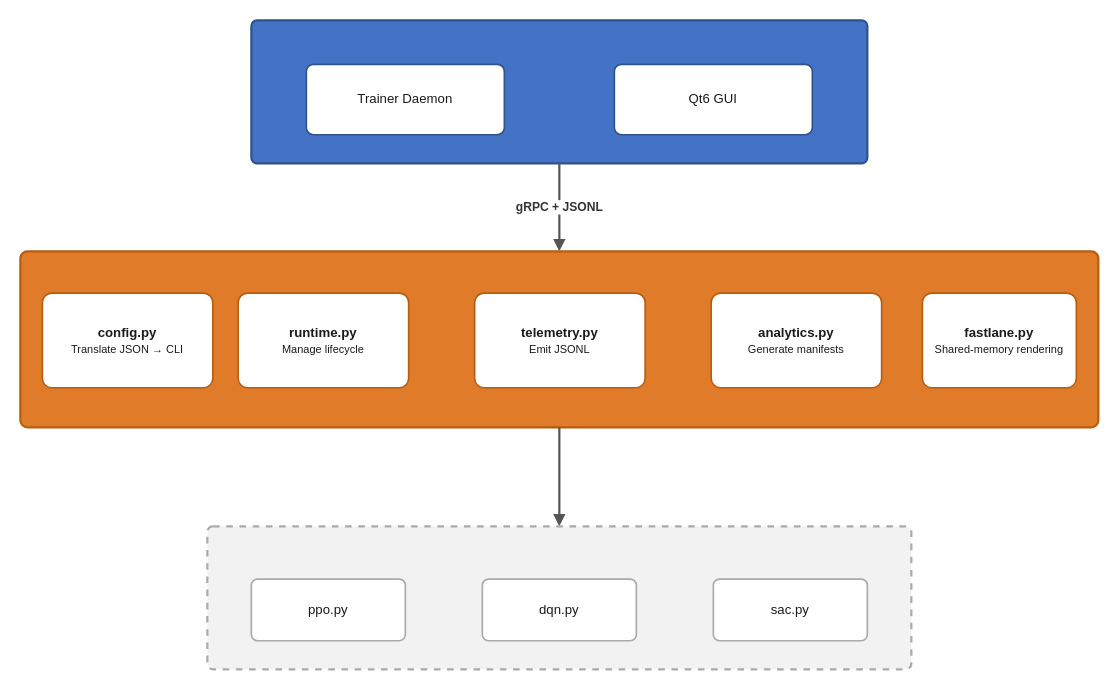
Some shapes in this 1118 by 689 pixel diagram are drawn without their labels. The box of each missing label's shape, as (x1, y1, x2, y2) in pixels:
MOSAIC Core: (250, 19, 868, 164)
MOSAIC Shim Layer (e.g., cleanrl_worker): (19, 250, 1099, 428)
Upstream Library (Unmodified) (e.g., cleanrl_worker): (206, 525, 912, 670)
